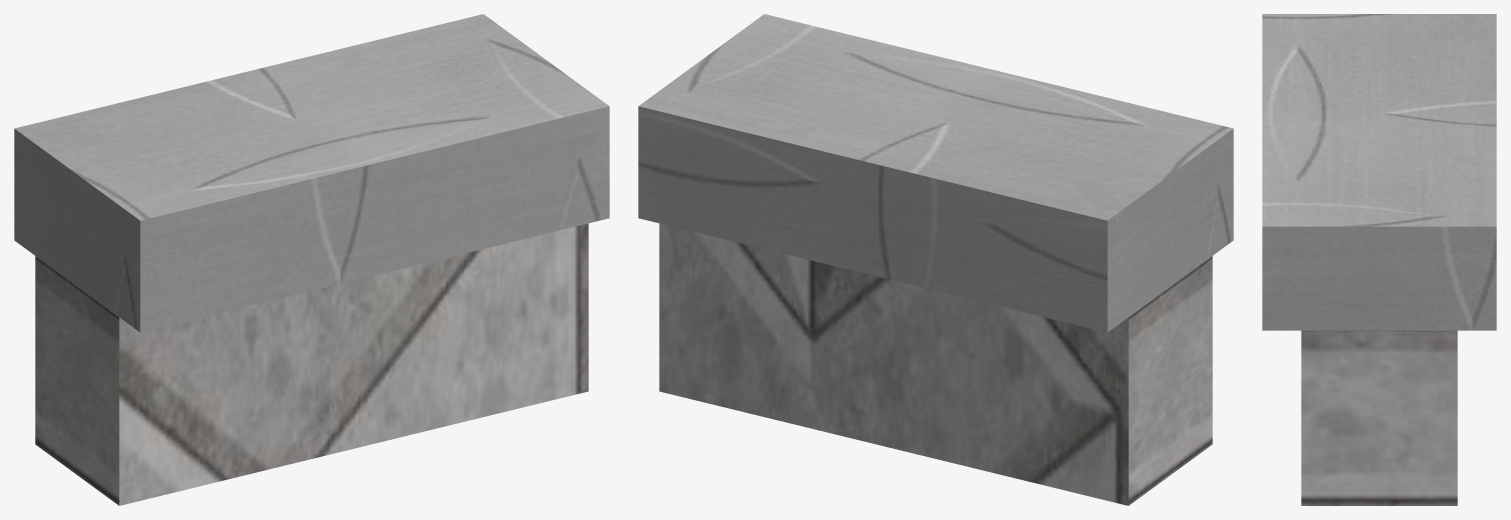
Rendered from brainstorm_hope_walls.fbx.
3 renders of one model, left to right at view 1: azimuth 30°, elevation 25°; view 2: azimuth 150°, elevation 25°; view 3: azimuth 270°, elevation 25°, orthographic. The views are drawn at different scales.
Visible parts, largest first — view 1: Cube.013, Cube.007; view 2: Cube.013, Cube.007; view 3: Cube.013, Cube.007.
Boxes of the visible parts, box(x1,y1,x2,y2) form: Cube.013: box(14, 14, 609, 332); Cube.007: box(35, 223, 588, 505); Cube.013: box(638, 14, 1233, 332); Cube.007: box(659, 223, 1212, 505); Cube.013: box(1262, 14, 1496, 330); Cube.007: box(1301, 330, 1457, 505).
Bounding box in the file's own units: 1000 × 612 × 465.
